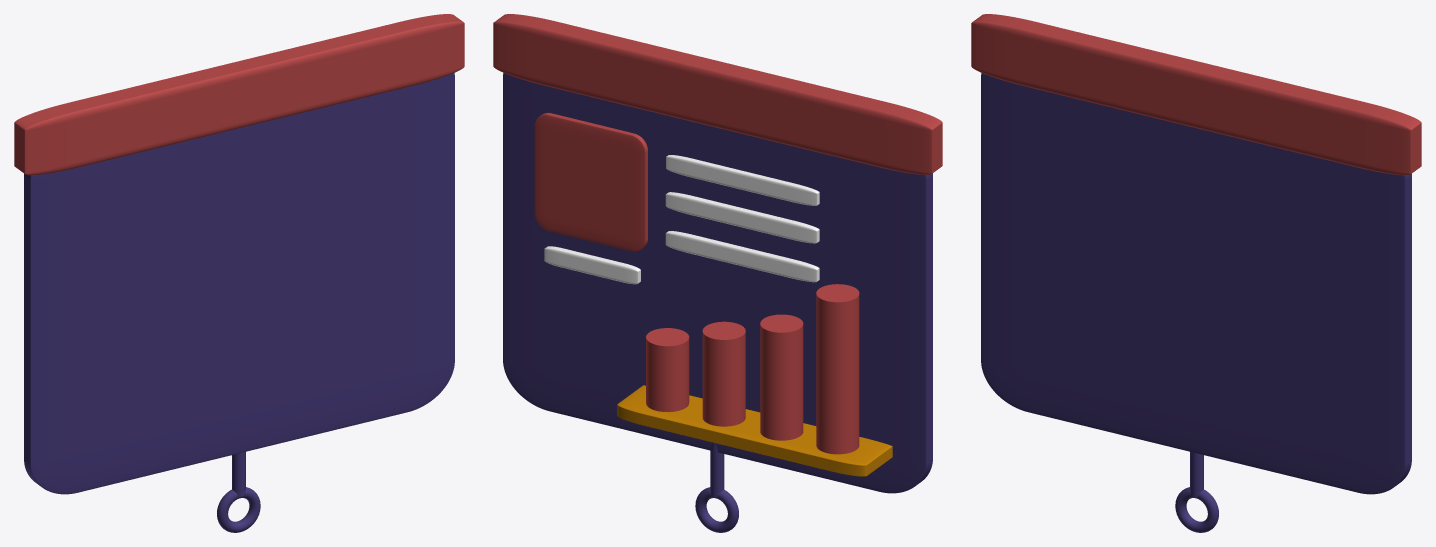
Rendered from chart-transformed.glb.
The picture shows the model from 3 angles, left to right: view 1: azimuth 30°, elevation 25°; view 2: azimuth 150°, elevation 25°; view 3: azimuth 330°, elevation 25°; orthographic projection.
Visible parts, largest first — view 1: cube (1)_1, cube (2)_2, torus (1)_4, cylinder (1)_3; view 2: cube (1)_1, cube (2)_2, cube (3)_5, cylinder (3)_12, cube (5)_10, cylinder (4)_13, cylinder (5)_14, cylinder (2)_11, cube (6)_8, cube (5)_7, cube (4)_6, cube (7)_9 (+2 smaller); view 3: cube (1)_1, cube (2)_2, torus (1)_4, cylinder (1)_3.
Part boxes in pixels (<box>): cube (1)_1: <box>24,73,454,494</box>; cube (2)_2: <box>14,14,464,175</box>; torus (1)_4: <box>217,487,260,532</box>; cylinder (1)_3: <box>232,452,245,496</box>; cube (1)_1: <box>503,73,932,493</box>; cube (2)_2: <box>493,14,942,174</box>; cube (3)_5: <box>534,112,647,251</box>; cylinder (3)_12: <box>816,284,859,454</box>; cube (5)_10: <box>617,385,892,476</box>; cylinder (4)_13: <box>760,314,803,440</box>; cylinder (5)_14: <box>702,321,745,426</box>; cylinder (2)_11: <box>646,328,689,412</box>; cube (6)_8: <box>665,192,819,243</box>; cube (5)_7: <box>665,231,819,282</box>; cube (4)_6: <box>666,155,819,205</box>; cube (7)_9: <box>544,246,640,284</box>; cube (1)_1: <box>981,73,1411,494</box>; cube (2)_2: <box>971,14,1421,175</box>; torus (1)_4: <box>1175,487,1218,532</box>; cylinder (1)_3: <box>1190,452,1203,496</box>.
Bounding box in the file's own units: 3.12 × 3.16 × 0.4959.
